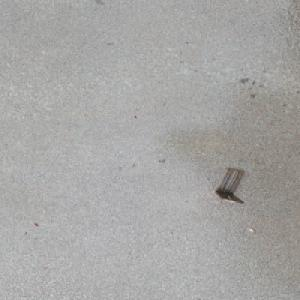MetalPart: (214, 167, 245, 203)
